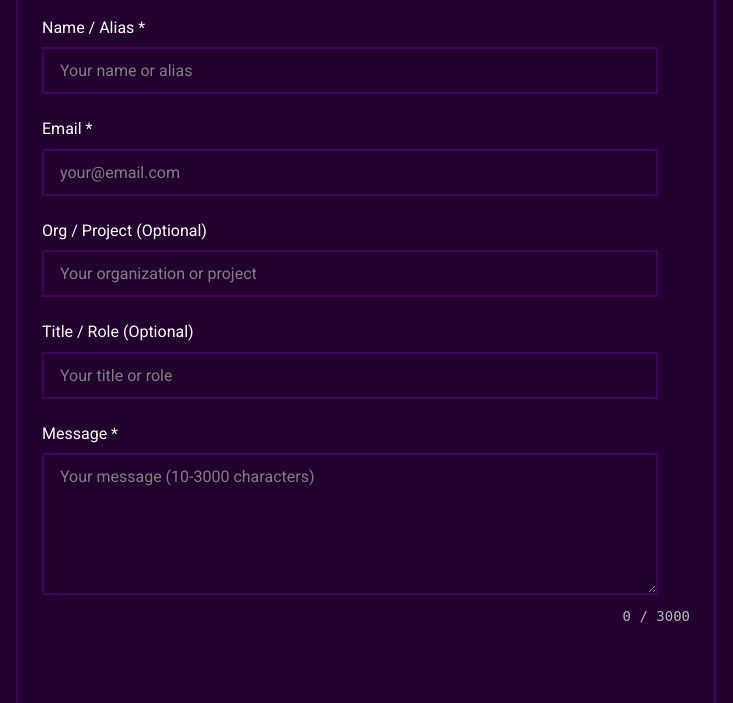
Test case: ContactForm (unit) › blocks submit when Turnstile is missing and shows inline error
This screenshot has width=733, height=703.
// Fill required fields EXCEPT the turnstile
In the field with id "name": (350, 71) [42,47,658,94], type "Alice"
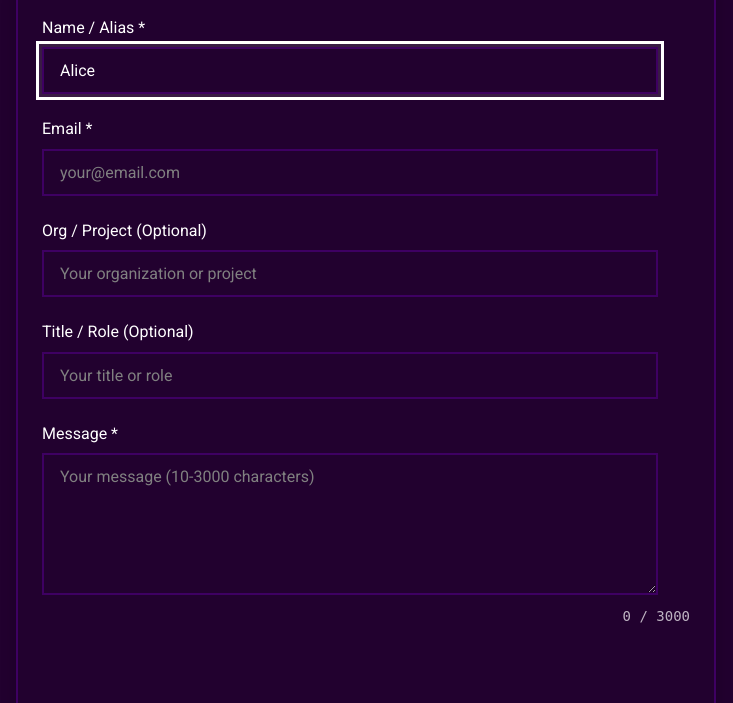
In the field with id "email": (350, 172) [42,149,658,196], type "alice@example.com"
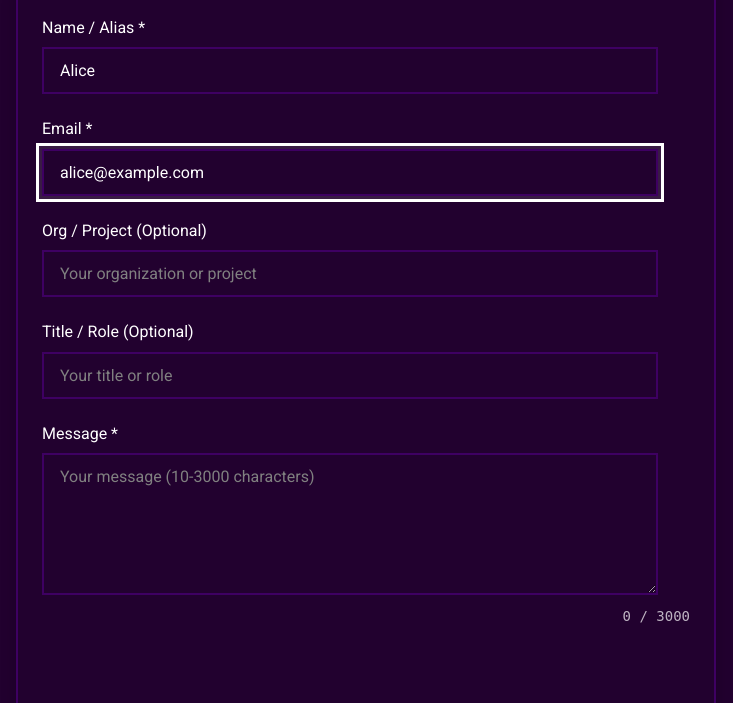
In the text box with id "message": (350, 524) [42,453,658,595], type "Hello there! This is valid."
(page scrolled)
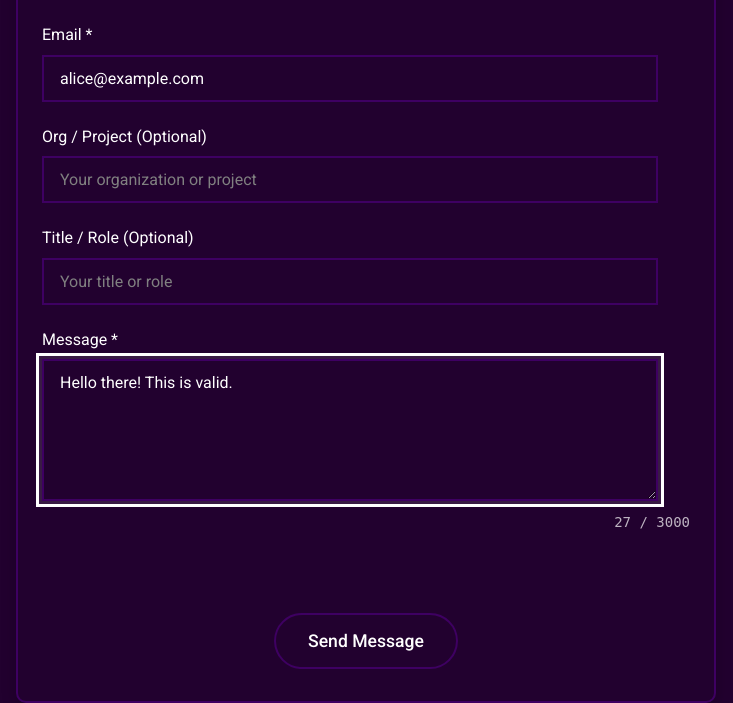
Click the button "Send Message": (366, 640) [274,612,458,668]
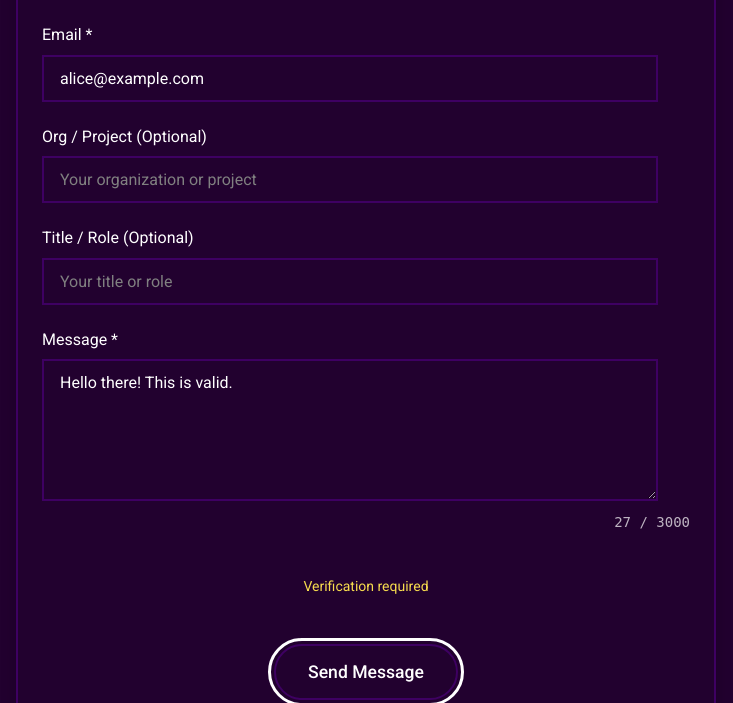
Expected: the text "Verification required" is shown, [303,576,428,596]
